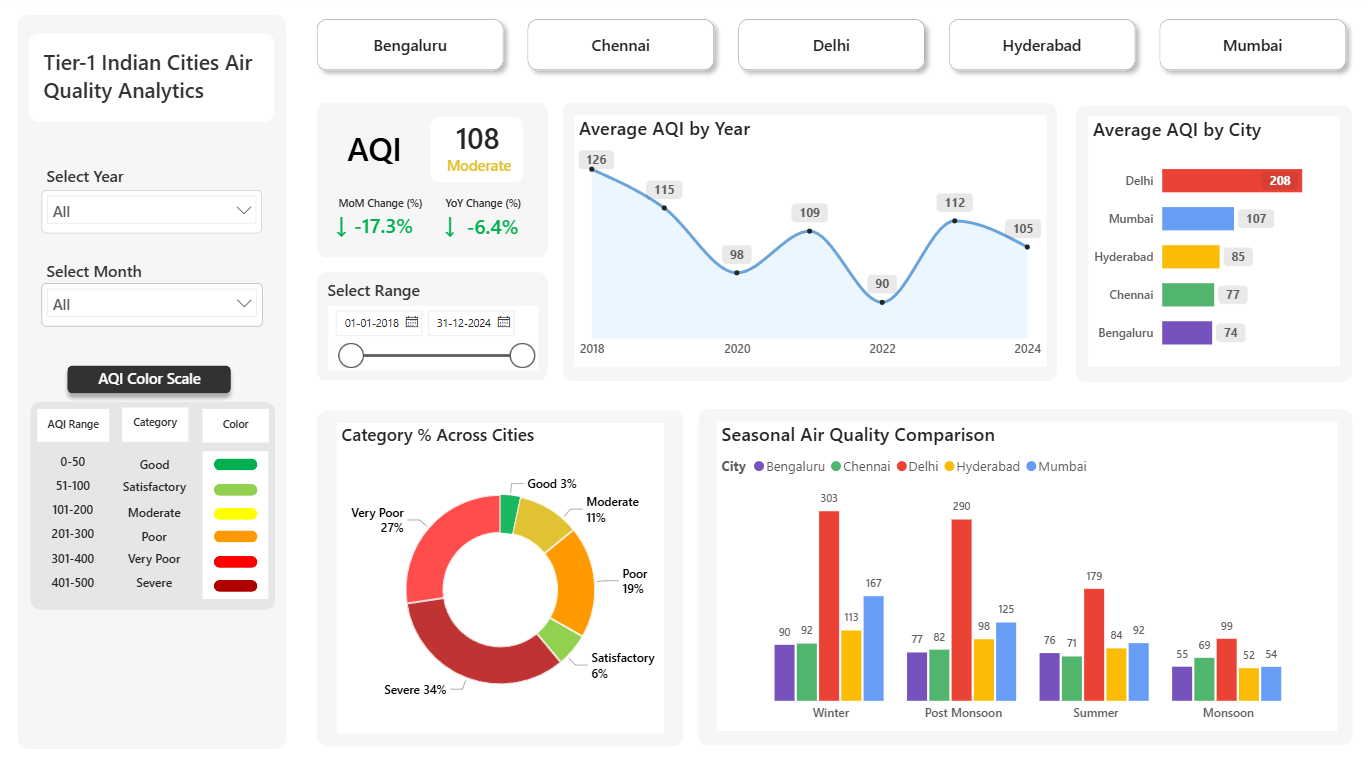

This screenshot's page, from the dashboard's own definition file:
{"tool":"powerbi","page":{"name":"AQI Analytics","canvas":[1400,800],"ordinal":0},"visuals":[{"type":"shape","box":[25.8,26.7,271.7,742.5],"z":0},{"type":"shape","box":[37.4,45.5,248.6,90],"z":0,"group":"g28"},{"type":"group","id":"g1","title":"Group 7","box":[577.5,115.8,500,282],"z":0,"group":"g23"},{"type":"shape","box":[577.5,115.8,500,282],"z":0,"group":"g1"},{"type":"shape","box":[1095.7,118.6,280,280],"z":0,"group":"g26"},{"type":"lineChart","fields":{"Y":["Measure.Average AQI"],"Category":["Calendar.Date.Variation.Date Hierarchy.Year","Calendar.Date.Variation.Date Hierarchy.Quarter","Calendar.Date.Variation.Date Hierarchy.Month","Calendar.Date.Variation.Date Hierarchy.Day"]},"box":[589.5,128.3,477.6,255],"z":0,"group":"g10"},{"type":"shape","box":[442.1,130,94.7,66.7],"z":0,"group":"g21"},{"type":"group","id":"g2","title":"Group 5","box":[436,203.1,141.7,67.8],"z":0,"group":"g20"},{"type":"slicer","fields":{"Values":["Calendar.Date.Variation.Date Hierarchy.Year"]},"box":[50.1,205.3,223.3,44.1],"z":0,"group":"g12"},{"type":"cardVisual","fields":{"Data":["Measure.AQI Trend Arrow"]},"box":[317.1,205.9,70.4,65.7],"z":0,"group":"g19"},{"type":"cardVisual","title":"MoM Change %","fields":{"Data":["Measure.YoY AQI"]},"box":[436,210.9,141.7,60],"z":0,"group":"g2"},{"type":"group","id":"g3","title":"Group 1","box":[50.1,270.8,223.3,72.3],"z":0,"group":"g11"},{"type":"slicer","fields":{"Values":["Calendar.Date.Variation.Date Hierarchy.Month"]},"box":[50.1,299.8,223.7,43.7],"z":0,"group":"g3"},{"type":"slicer","fields":{"Values":["Calendar.Date"]},"box":[340,320.8,212.7,65.5],"z":0,"group":"g25"},{"type":"shape","box":[67.2,373,183.5,46.1],"z":0,"group":"g13"},{"type":"group","id":"g4","title":"Group 16","box":[38.4,419.2,248,210.4],"z":0,"group":"g24"},{"type":"group","id":"g5","title":"Group 8","box":[38.4,419.2,248,210.4],"z":0,"group":"g4"},{"type":"shape","box":[38.4,419.2,248,210.4],"z":0,"group":"g5"},{"type":"textbox","box":[213.4,425.9,67,33.9],"z":0,"group":"g18"},{"type":"group","id":"g6","title":"Group 4","box":[713.8,426.2,662.5,341.3],"z":0,"group":"g27"},{"type":"group","id":"g7","title":"Group 17","box":[713.8,426.2,662.1,340.6],"z":0,"group":"g6"},{"type":"shape","box":[713.8,426.2,662.1,340.6],"z":0,"group":"g7"},{"type":"group","id":"g8","title":"Group 17","box":[329.2,426.7,370.8,340],"z":0,"group":"g22"},{"type":"shape","box":[329.2,426.7,370.8,340],"z":0,"group":"g8"},{"type":"group","id":"g9","title":"Group 10","box":[48.9,464.9,66.4,156.1],"z":0,"group":"g17"},{"type":"textbox","box":[48.9,464.9,66.4,33.6],"z":0,"group":"g9"},{"type":"textbox","box":[131.8,467.2,66,33.5],"z":0,"group":"g14"},{"type":"textbox","box":[213.7,468.3,66.6,149.2],"z":0,"group":"g15"},{"type":"shape","box":[224.8,475.5,44.3,12.4],"z":0,"group":"g16"},{"type":"textbox","box":[47.4,54.1,231.4,70],"z":1000,"group":"g28"},{"type":"group","id":"g10","title":"Group 9","box":[589.5,128.3,477.6,255],"z":1000,"group":"g1"},{"type":"barChart","fields":{"Category":["Tier1(AQI).City"],"Y":["Measure.Average AQI"]},"box":[1109.2,130.6,255,252.5],"z":1000,"group":"g26"},{"type":"cardVisual","fields":{"Data":["Measure.AQI Category KPI"]},"box":[420.8,151.1,142.1,54.3],"z":1000,"group":"g21"},{"type":"group","id":"g11","title":"Group 3","box":[50.1,174.8,223.3,166.7],"z":1000},{"type":"group","id":"g12","title":"Group 2","box":[50.1,174.8,223.3,74.6],"z":1000,"group":"g11"},{"type":"textbox","box":[50.1,174.8,123.8,35],"z":1000,"group":"g12"},{"type":"textbox","box":[436,203.1,122.3,30.1],"z":1000,"group":"g2"},{"type":"cardVisual","fields":{"Data":["Measure.AQI Trend Arrow"]},"box":[426.9,204.3,69.2,67.2],"z":1000,"group":"g20"},{"type":"cardVisual","title":"MoM Change %","fields":{"Data":["Measure.MoM AQI (%)"]},"box":[324.5,209.9,143.2,58.9],"z":1000,"group":"g19"},{"type":"textbox","box":[50.1,270.8,123.8,35],"z":1000,"group":"g3"},{"type":"group","id":"g13","title":"Group 5","box":[67.2,373,183.5,46.1],"z":1000,"group":"g24"},{"type":"textbox","box":[76.7,380.1,164.1,32.9],"z":1000,"group":"g13"},{"type":"textbox","box":[45.1,426.6,72.8,33.1],"z":1000,"group":"g4"},{"type":"clusteredColumnChart","title":"Seasonal Air Quality Comparison","fields":{"Y":["Avg(Tier1(AQI).AQI)"],"Category":["Tier1(AQI).Seasons"],"Series":["Tier1(AQI).City"]},"box":[731.7,439.1,628.3,312.7],"z":1000,"group":"g27"},{"type":"donutChart","title":"Category % Across Cities","fields":{"Series":["Tier1(AQI).Category"],"Y":["Avg(Tier1(AQI).AQI)"]},"box":[349.1,439.5,331.2,314.3],"z":1000,"group":"g8"},{"type":"group","id":"g14","title":"Group 11","box":[123.7,467.2,82.9,152.9],"z":1000,"group":"g17"},{"type":"group","id":"g15","title":"Group 14","box":[213.7,468.3,66.6,149.2],"z":1000,"group":"g18"},{"type":"group","id":"g16","title":"Group 13","box":[224.8,475.5,44.7,134.6],"z":1000,"group":"g15"},{"type":"textbox","box":[48.9,489.4,66.4,33.6],"z":1000,"group":"g9"},{"type":"textbox","box":[123.7,490.1,82.9,30.6],"z":1000,"group":"g14"},{"type":"shape","box":[224.8,501.3,44.3,12.4],"z":1000,"group":"g16"},{"type":"shape","box":[328.6,115.7,234.3,157.1],"z":2000},{"type":"cardVisual","fields":{"Data":["Measure.Average AQI"]},"box":[436.8,116.1,108.3,68.3],"z":2000,"group":"g21"},{"type":"textbox","box":[333,203.1,120,30],"z":2000,"group":"g19"},{"type":"textbox","box":[131.4,425.2,67,34.6],"z":2000,"group":"g4"},{"type":"textbox","box":[48.9,513.9,66.4,33.6],"z":2000,"group":"g9"},{"type":"textbox","box":[126.5,516,76.6,32.8],"z":2000,"group":"g14"},{"type":"shape","box":[224.8,526,44.3,12.4],"z":2000,"group":"g16"},{"type":"advancedSlicerVisual","fields":{"Values":["Cities.Cities"]},"box":[312,14,1075,86],"z":3000},{"type":"group","id":"g17","title":"Group 12","box":[48.9,464.9,157.8,156.1],"z":3000,"group":"g4"},{"type":"textbox","box":[48.9,538.4,66.4,33.6],"z":3000,"group":"g9"},{"type":"textbox","box":[126.5,539.6,76.4,32.8],"z":3000,"group":"g14"},{"type":"shape","box":[224.8,548.7,44.3,12.4],"z":3000,"group":"g16"},{"type":"textbox","box":[354.2,135.8,88.3,62.5],"z":4000},{"type":"group","id":"g18","title":"Group 15","box":[213.4,425.9,67,191.6],"z":4000,"group":"g4"},{"type":"textbox","box":[48.9,562.9,66.4,33.6],"z":4000,"group":"g9"},{"type":"textbox","box":[126.5,563.3,76.6,32.8],"z":4000,"group":"g14"},{"type":"shape","box":[224.8,573.5,44.3,12.4],"z":4000,"group":"g16"},{"type":"group","id":"g19","title":"MoM%","box":[317.1,203.1,150.5,68.5],"z":5000},{"type":"textbox","box":[48.9,587.4,66.4,33.6],"z":5000,"group":"g9"},{"type":"textbox","box":[126.5,587.4,76.6,32.8],"z":5000,"group":"g14"},{"type":"shape","box":[225.2,597.7,44.3,12.4],"z":5000,"group":"g16"},{"type":"group","id":"g20","title":"YoY %","box":[426.9,203.1,150.8,68.4],"z":6000},{"type":"group","id":"g21","title":"AQI","box":[420.8,116.1,142.1,89.3],"z":7000},{"type":"group","id":"g22","title":"Group 4","box":[329.2,426.7,370.8,340],"z":8000},{"type":"group","id":"g23","title":"Group 6","box":[577.5,115.8,500,281.7],"z":9000},{"type":"group","id":"g24","title":"Group 6","box":[38.4,373,248,256.6],"z":10000},{"type":"shape","box":[329.1,287.3,233.6,110],"z":11000},{"type":"group","id":"g25","title":"Group 4","box":[340,320.8,212.7,65.5],"z":12000},{"type":"textbox","box":[334.7,289.3,124,35.3],"z":13000},{"type":"group","id":"g26","title":"Group 18","box":[1095.7,118.6,280,280],"z":14000},{"type":"group","id":"g27","title":"Group 19","box":[713.8,426.2,662.5,341.2],"z":15000},{"type":"group","id":"g28","title":"Group 20","box":[37.4,45.5,248.6,90],"z":16000}]}

Visuals, with their boxes in screenshot pixels (x1, y1, x2, y2), scaled from the page's 1400x800 canvas onto the 1367x763 screenshot:
shape: rect(25, 25, 290, 734)
shape: rect(37, 43, 279, 129)
"Group 7" group: rect(564, 110, 1052, 379)
shape: rect(564, 110, 1052, 379)
shape: rect(1070, 113, 1343, 380)
lineChart - Measure.Average AQI x Calendar.Date.Variation.Date Hierarchy.Year: rect(576, 122, 1042, 366)
shape: rect(432, 124, 524, 188)
"Group 5" group: rect(426, 194, 564, 258)
slicer - Calendar.Date.Variation.Date Hierarchy.Year: rect(49, 196, 267, 238)
cardVisual - Measure.AQI Trend Arrow: rect(310, 196, 378, 259)
"MoM Change %" cardVisual: rect(426, 201, 564, 258)
"Group 1" group: rect(49, 258, 267, 327)
slicer - Calendar.Date.Variation.Date Hierarchy.Month: rect(49, 286, 267, 328)
slicer - Calendar.Date: rect(332, 306, 540, 368)
shape: rect(66, 356, 245, 400)
"Group 16" group: rect(37, 400, 280, 600)
"Group 8" group: rect(37, 400, 280, 600)
shape: rect(37, 400, 280, 600)
textbox: rect(208, 406, 274, 439)
"Group 4" group: rect(697, 406, 1344, 732)
"Group 17" group: rect(697, 406, 1343, 731)
shape: rect(697, 406, 1343, 731)
"Group 17" group: rect(321, 407, 684, 731)
shape: rect(321, 407, 684, 731)
"Group 10" group: rect(48, 443, 113, 592)
textbox: rect(48, 443, 113, 475)
textbox: rect(129, 446, 193, 478)
textbox: rect(209, 447, 274, 589)
shape: rect(220, 454, 263, 465)
textbox: rect(46, 52, 272, 118)
"Group 9" group: rect(576, 122, 1042, 366)
barChart - Tier1(AQI).City x Measure.Average AQI: rect(1083, 125, 1332, 365)
cardVisual - Measure.AQI Category KPI: rect(411, 144, 550, 196)
"Group 3" group: rect(49, 167, 267, 326)
"Group 2" group: rect(49, 167, 267, 238)
textbox: rect(49, 167, 170, 200)
textbox: rect(426, 194, 545, 222)
cardVisual - Measure.AQI Trend Arrow: rect(417, 195, 484, 259)
"MoM Change %" cardVisual: rect(317, 200, 457, 256)
textbox: rect(49, 258, 170, 292)
"Group 5" group: rect(66, 356, 245, 400)
textbox: rect(75, 363, 235, 394)
textbox: rect(44, 407, 115, 438)
"Seasonal Air Quality Comparison" clusteredColumnChart: rect(714, 419, 1328, 717)
"Category % Across Cities" donutChart: rect(341, 419, 664, 719)
"Group 11" group: rect(121, 446, 202, 591)
"Group 14" group: rect(209, 447, 274, 589)
"Group 13" group: rect(220, 454, 263, 582)
textbox: rect(48, 467, 113, 499)
textbox: rect(121, 467, 202, 497)
shape: rect(220, 478, 263, 490)
shape: rect(321, 110, 550, 260)
cardVisual - Measure.Average AQI: rect(427, 111, 532, 176)
textbox: rect(325, 194, 442, 222)
textbox: rect(128, 406, 194, 439)
textbox: rect(48, 490, 113, 522)
textbox: rect(124, 492, 198, 523)
shape: rect(220, 502, 263, 513)
advancedSlicerVisual - Cities.Cities: rect(305, 13, 1354, 95)
"Group 12" group: rect(48, 443, 202, 592)
textbox: rect(48, 513, 113, 546)
textbox: rect(124, 515, 198, 546)
shape: rect(220, 523, 263, 535)
textbox: rect(346, 130, 432, 189)
"Group 15" group: rect(208, 406, 274, 589)
textbox: rect(48, 537, 113, 569)
textbox: rect(124, 537, 198, 569)
shape: rect(220, 547, 263, 559)
"MoM%" group: rect(310, 194, 457, 259)
textbox: rect(48, 560, 113, 592)
textbox: rect(124, 560, 198, 592)
shape: rect(220, 570, 263, 582)
"YoY %" group: rect(417, 194, 564, 259)
"AQI" group: rect(411, 111, 550, 196)
"Group 4" group: rect(321, 407, 684, 731)
"Group 6" group: rect(564, 110, 1052, 379)
"Group 6" group: rect(37, 356, 280, 600)
shape: rect(321, 274, 549, 379)
"Group 4" group: rect(332, 306, 540, 368)
textbox: rect(327, 276, 448, 310)
"Group 18" group: rect(1070, 113, 1343, 380)
"Group 19" group: rect(697, 406, 1344, 732)
"Group 20" group: rect(37, 43, 279, 129)
